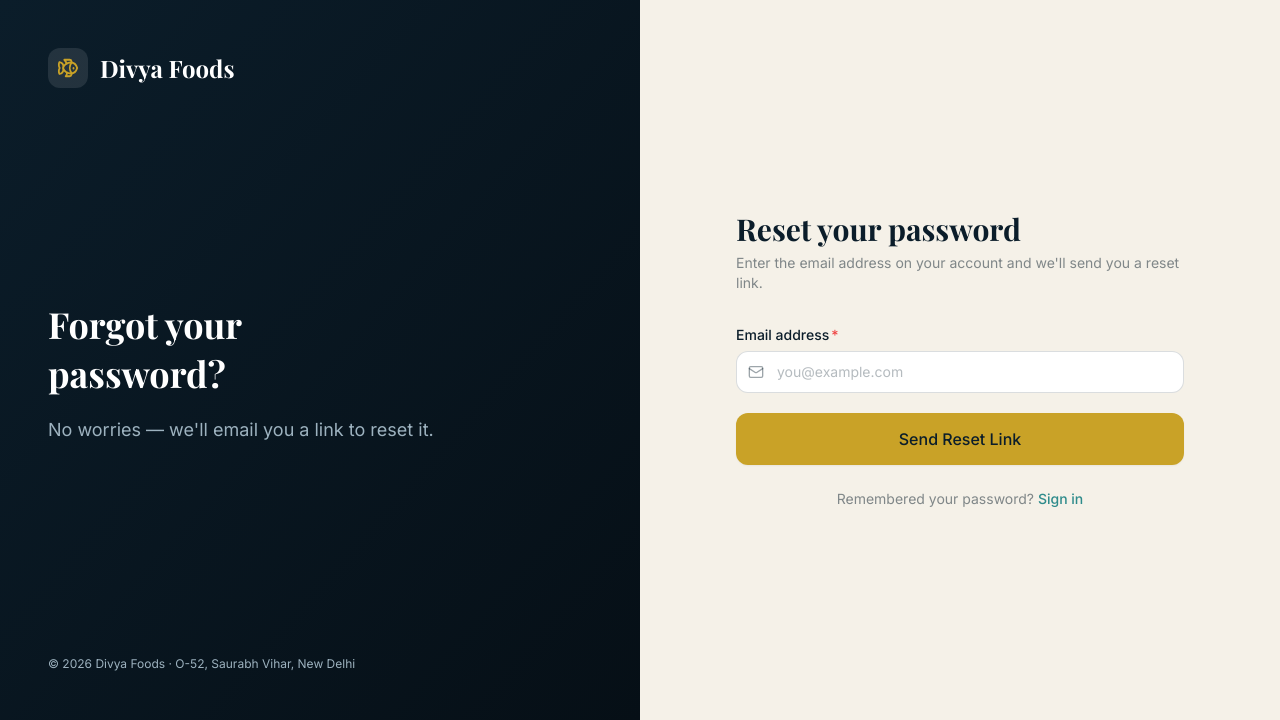
Test: ForgotPasswordPage › rejects an invalid email format
Type "not-an-email" into the field labelled "Email address*". click: (960, 372)
box: [736, 351, 1184, 393]
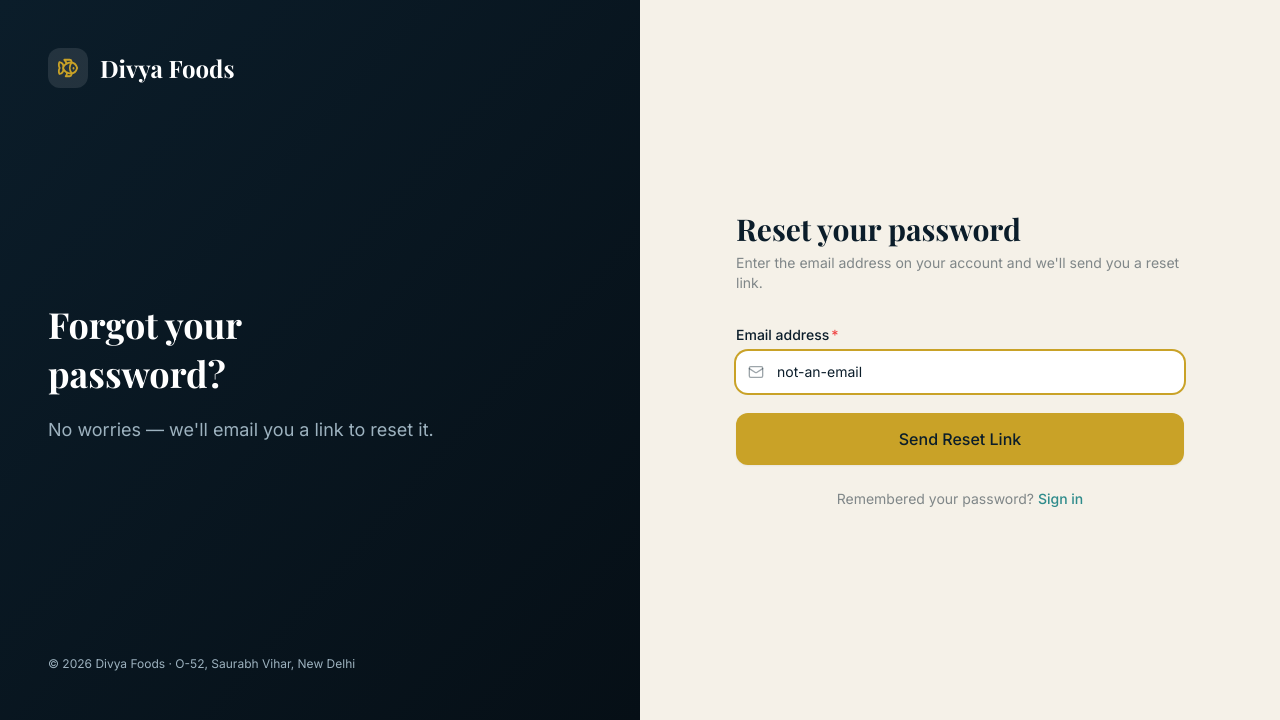
Click the button "Send Reset Link". click: (960, 439)
box: [736, 413, 1184, 465]
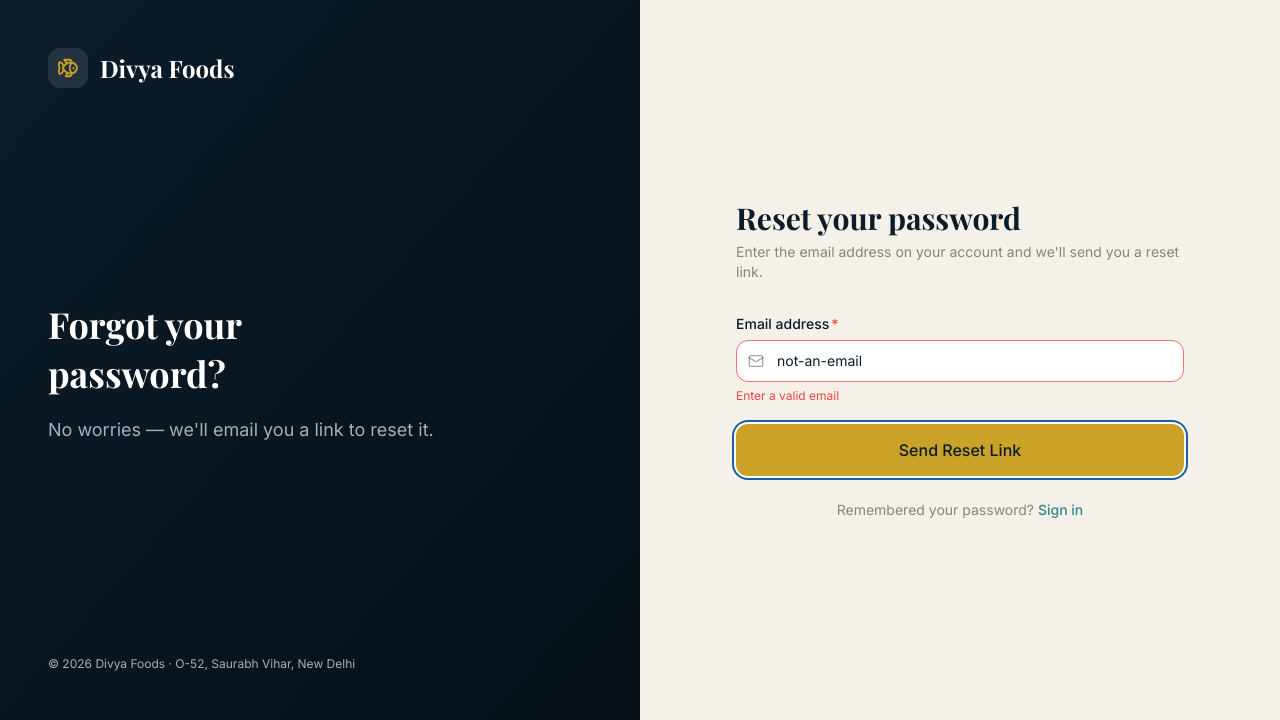
Check: the text "Enter a valid email" is shown, box [736, 388, 839, 403]
